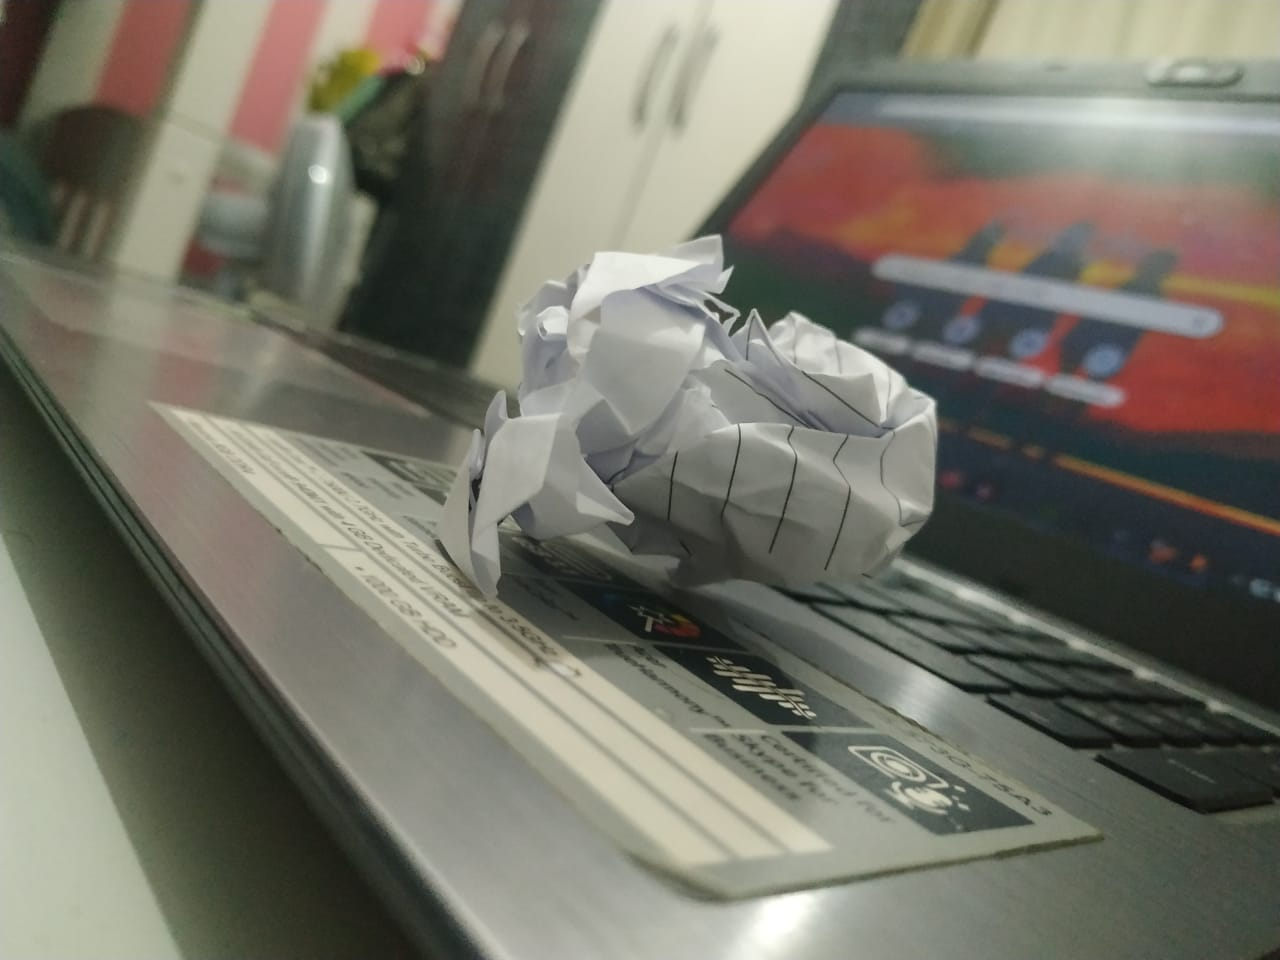paper-crumpled: (424, 236, 946, 637)
